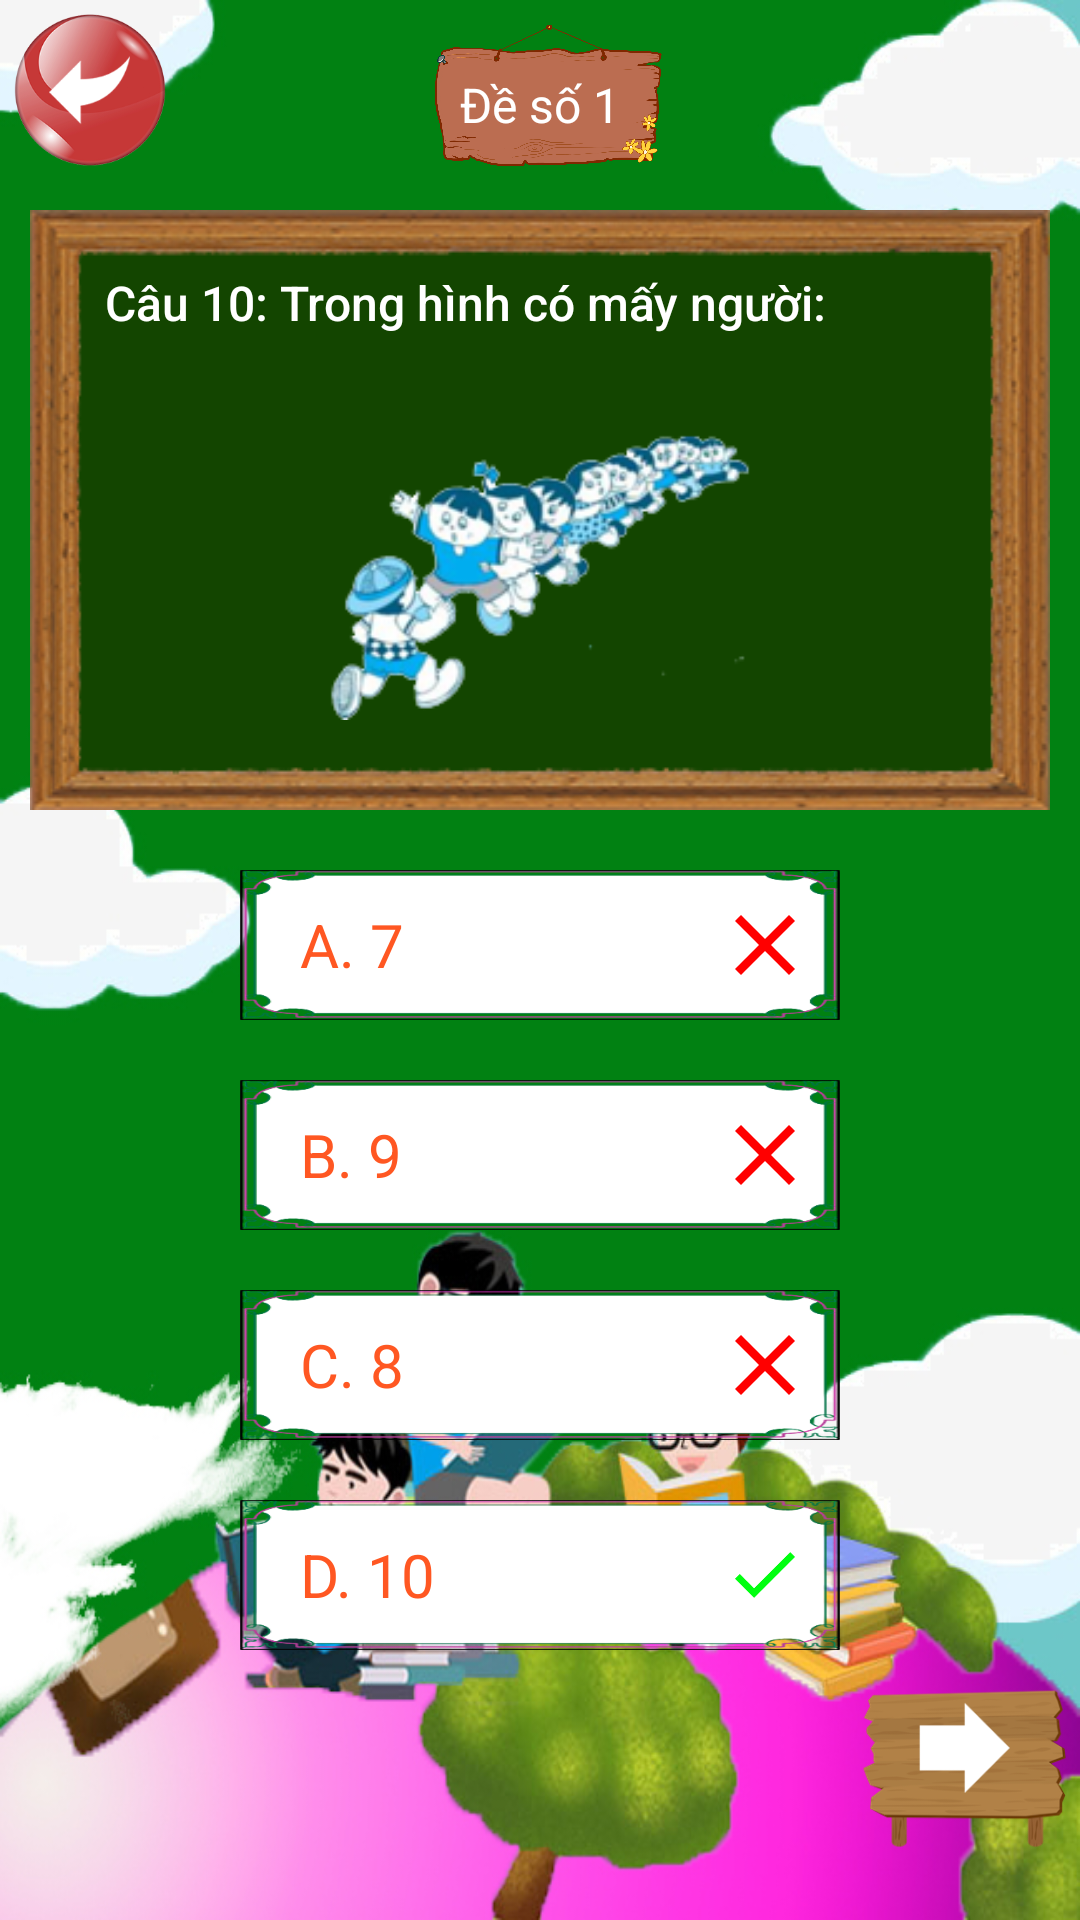

Icons on this 1080 × 1920 Android screen, each with the point to tap as [x,y]:
back: [90,83]
false: [765,945], [765,1155], [765,1365]
next cauhoi: [960,1770]
true: [765,1575]
